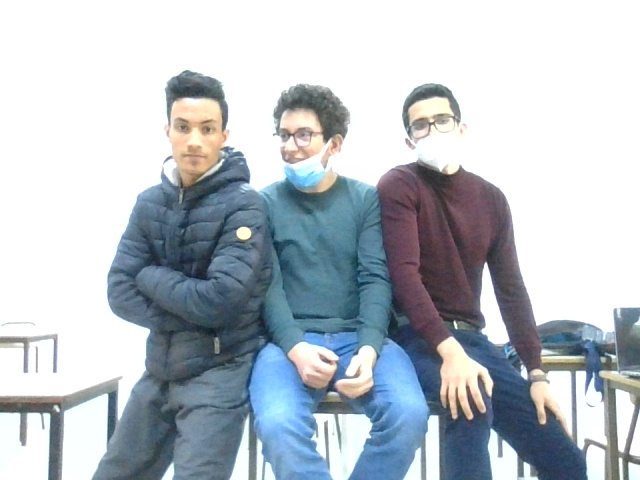mask_weared_incorrect: (270, 87, 353, 183), (392, 84, 476, 176)
without_mask: (159, 80, 231, 177)
